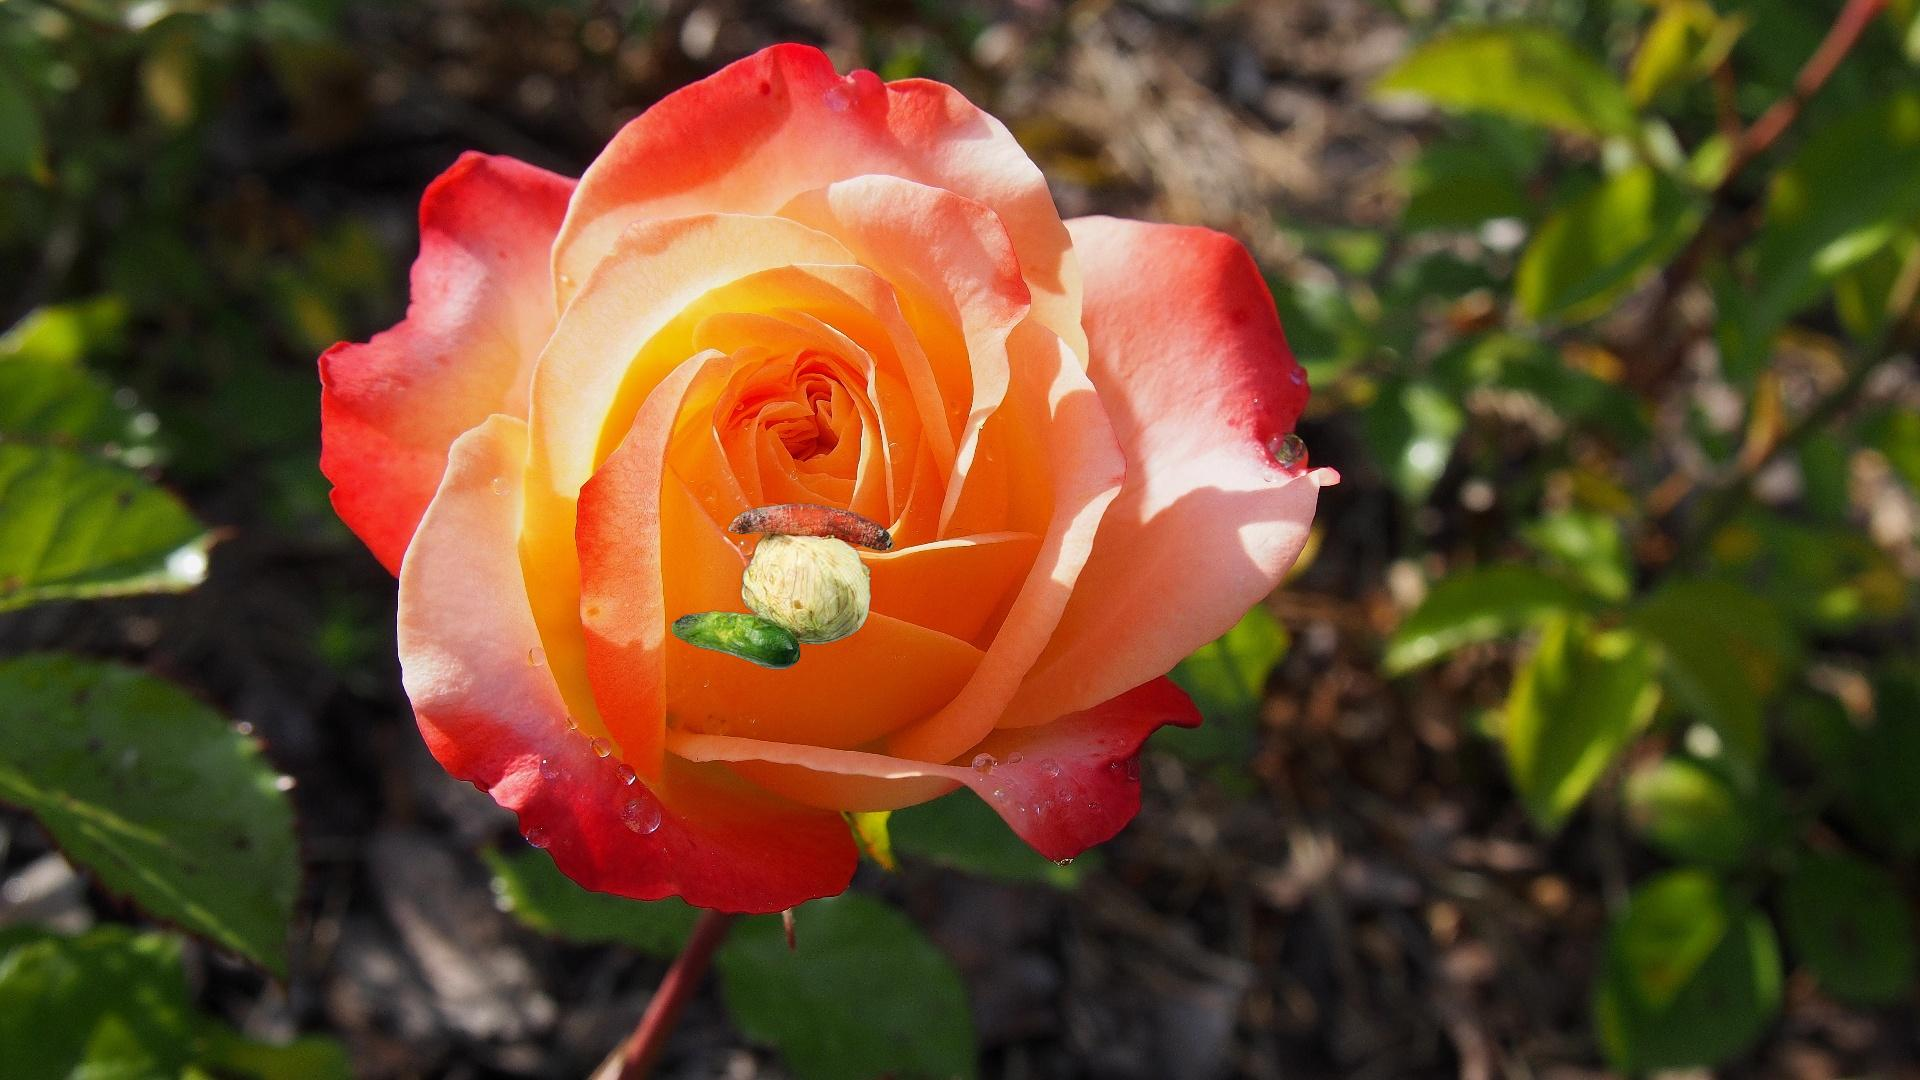biological: (670, 500, 897, 673)
